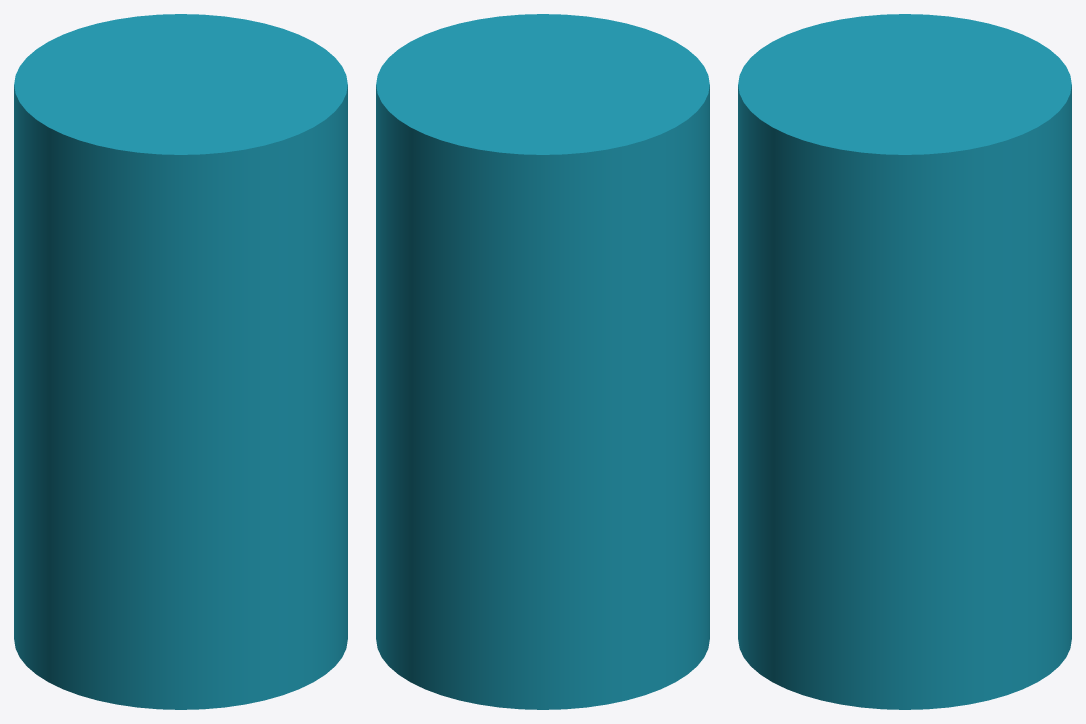
The model's file is SM_AdvancedFluidBuffer_Liquid.fbx.
The picture shows the model from 3 angles, left to right: view 1: azimuth 30°, elevation 25°; view 2: azimuth 150°, elevation 25°; view 3: azimuth 270°, elevation 25°; orthographic projection.
Parts seen in each view (by area): view 1: SM_OverflowTank_Liquid; view 2: SM_OverflowTank_Liquid; view 3: SM_OverflowTank_Liquid.
Boxes of the visible parts, <box> form: SM_OverflowTank_Liquid: <box>14,14,347,709</box>; SM_OverflowTank_Liquid: <box>376,14,709,709</box>; SM_OverflowTank_Liquid: <box>738,14,1071,709</box>.
Size of the model in its own units: 376 by 376 by 690.
